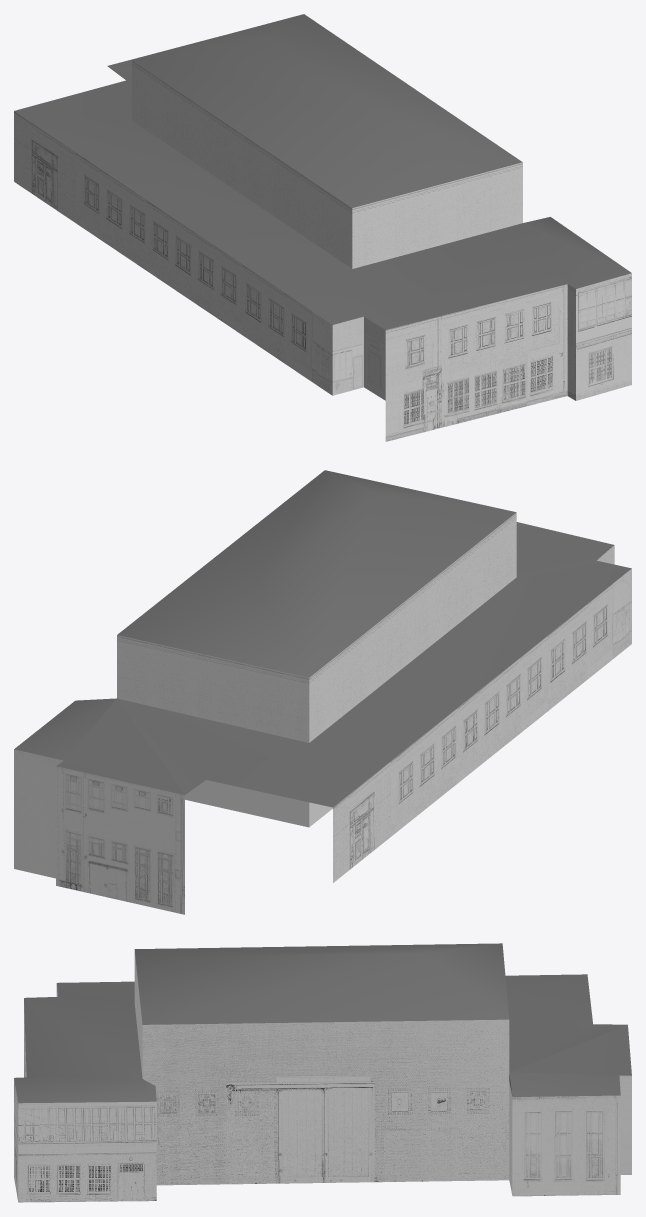
The model's file is Binder-Bau.gltf.
3 renders of one model, top to bottom at view 1: azimuth 30°, elevation 25°; view 2: azimuth 150°, elevation 25°; view 3: azimuth 270°, elevation 25°, orthographic. The views are drawn at different scales.
Parts seen in each view (by area): view 1: Dach.1; view 2: Dach.1; view 3: Dach.1.
Part boxes in pixels (x1,y1,x2,y2): Dach.1: (14, 14, 631, 441); Dach.1: (14, 470, 631, 914); Dach.1: (14, 943, 631, 1202).
Bounding box in the file's own units: 37.82 × 26 × 76.68.
Materials: 16 (15 with a texture image).
